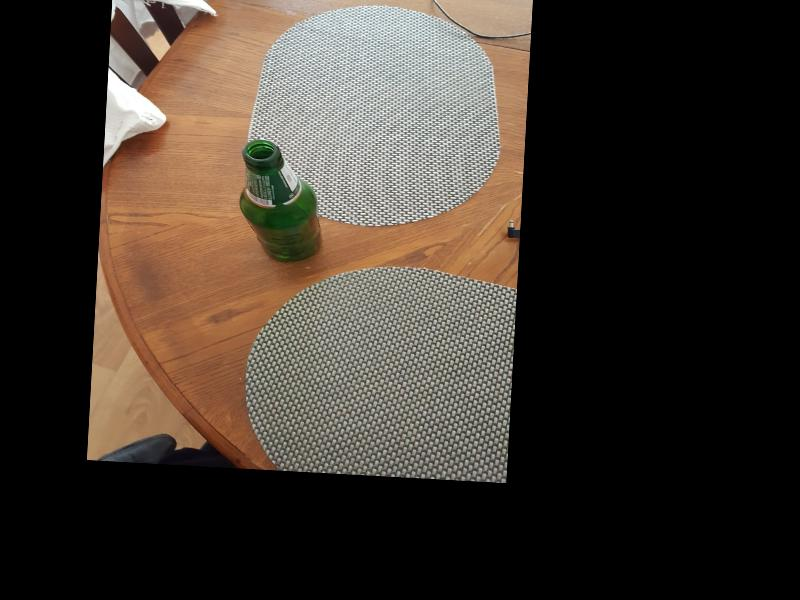Beer: (236, 139, 324, 265)
